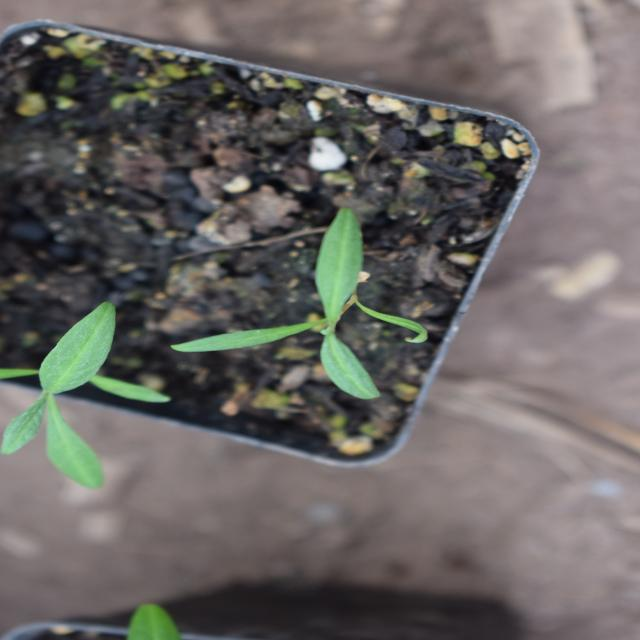white_smart_weed: (212, 169, 438, 427), (130, 4, 398, 149)
